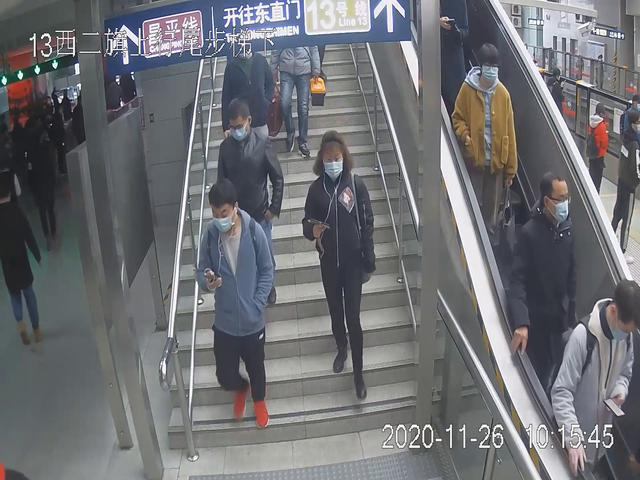person: (299, 130, 379, 405), (192, 175, 276, 428), (551, 273, 640, 480), (503, 168, 578, 406), (451, 42, 519, 258), (213, 105, 286, 306), (266, 36, 323, 160)
